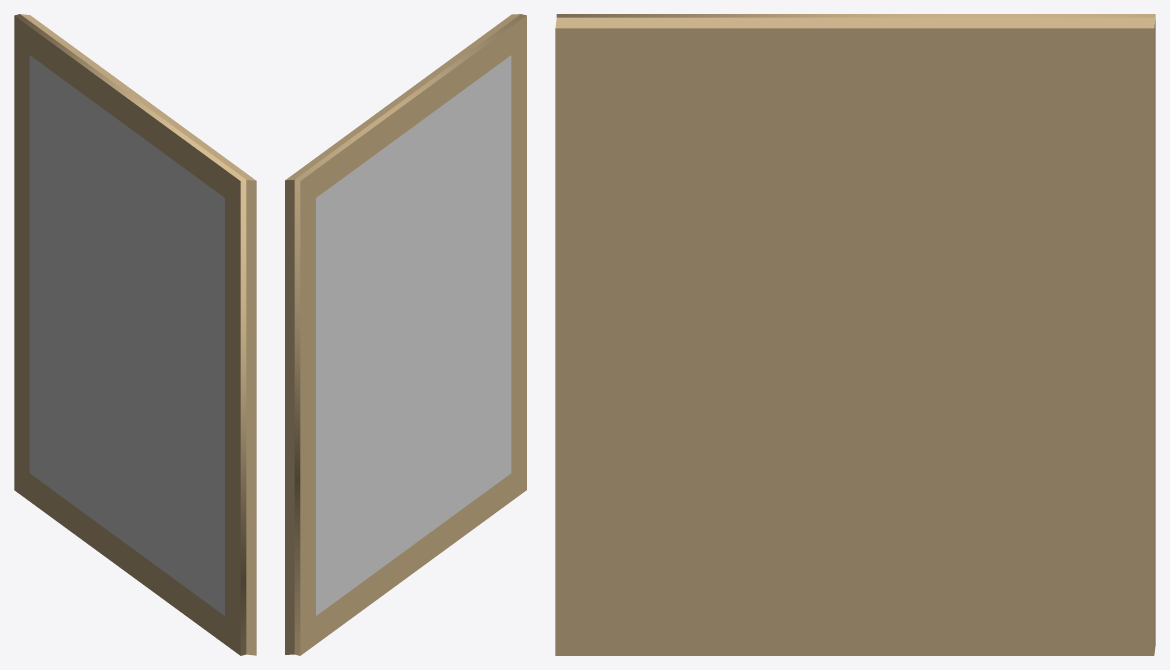
The model's file is Pictures.002.fbx.
3 renders of one model, left to right at view 1: azimuth 30°, elevation 25°; view 2: azimuth 150°, elevation 25°; view 3: azimuth 270°, elevation 25°, orthographic. The views are drawn at different scales.
Parts seen in each view (by area): view 1: Pictures.002; view 2: Pictures.002; view 3: Pictures.002.
Part boxes in pixels (x1,y1,x2,y2): Pictures.002: [14, 14, 256, 655]; Pictures.002: [285, 14, 526, 655]; Pictures.002: [555, 14, 1155, 655].
Bounding box in the file's own units: 3.97 × 116 × 99.83.
